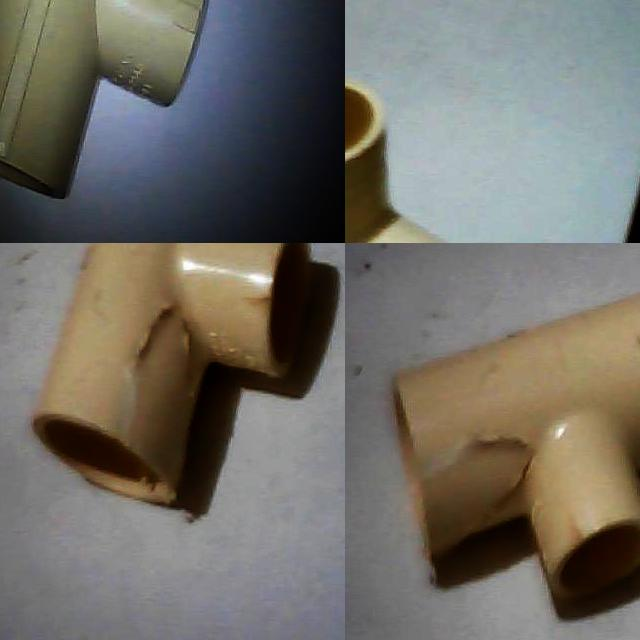Defective: (123, 288, 190, 482), (428, 426, 546, 530)
T Joint: (394, 294, 640, 622), (31, 243, 312, 508)
